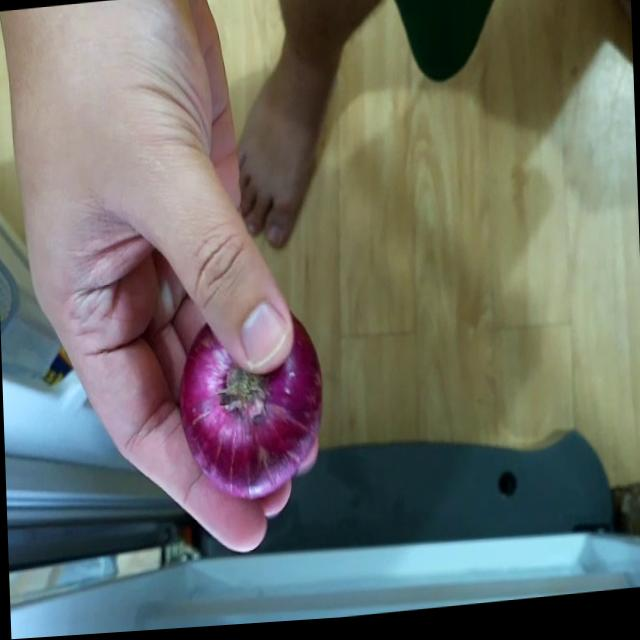onion: (175, 307, 321, 505)
